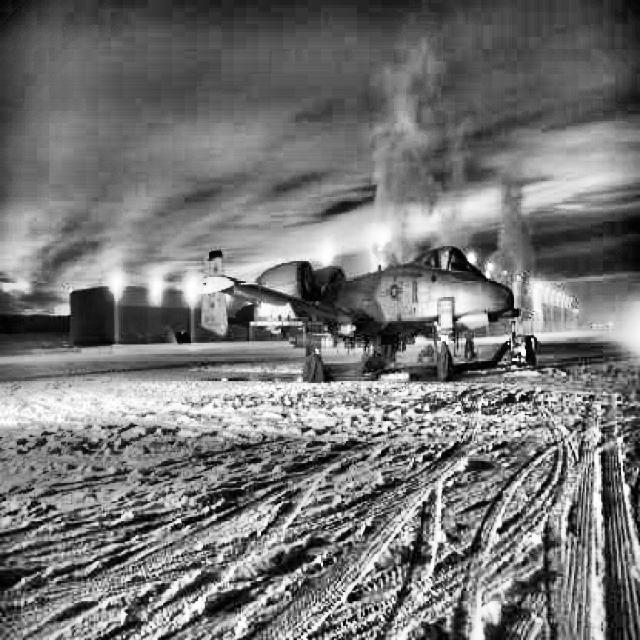A10: (192, 245, 519, 382)
